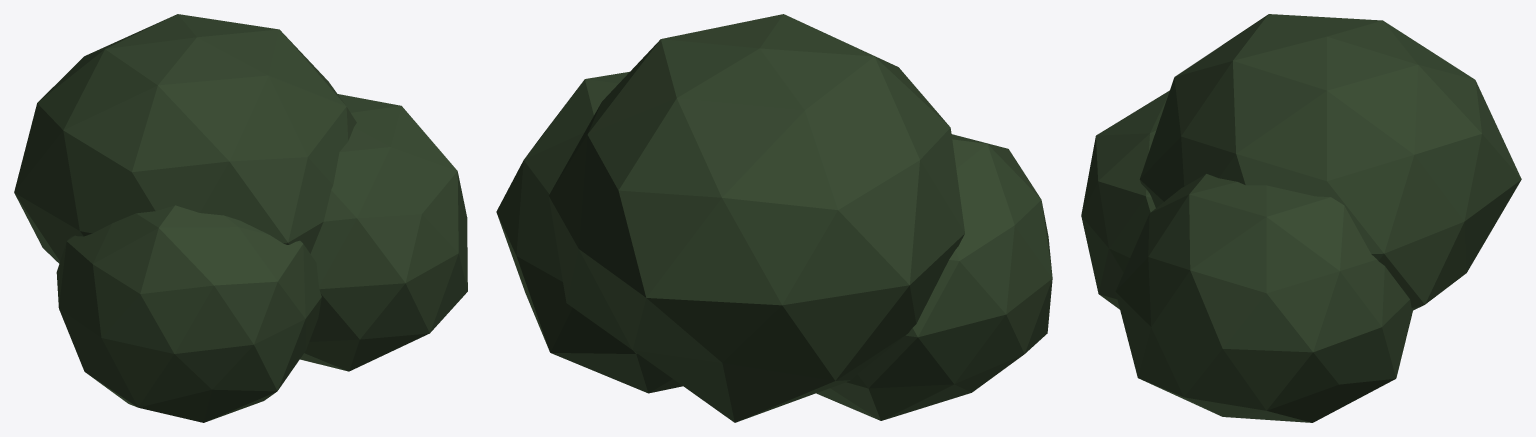
File: flora_bush.glb
The picture shows the model from 3 angles, left to right: view 1: azimuth 30°, elevation 25°; view 2: azimuth 150°, elevation 25°; view 3: azimuth 270°, elevation 25°; orthographic projection. The views are drawn at different scales.
Visible parts, largest first — view 1: FLORA_BushCrown; view 2: FLORA_BushCrown; view 3: FLORA_BushCrown.
Part boxes in pixels (<box>): FLORA_BushCrown: <box>14,14,467,422</box>; FLORA_BushCrown: <box>496,14,1052,422</box>; FLORA_BushCrown: <box>1081,14,1521,422</box>.
Size of the model in its own units: 10.62 by 8 by 9.88.
